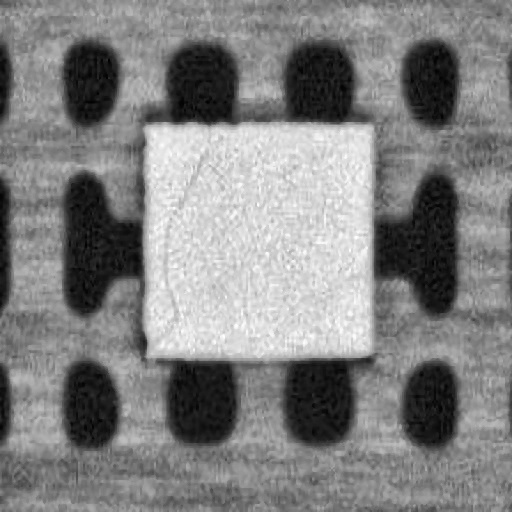DIE_CRACK: (158, 125, 210, 337)
